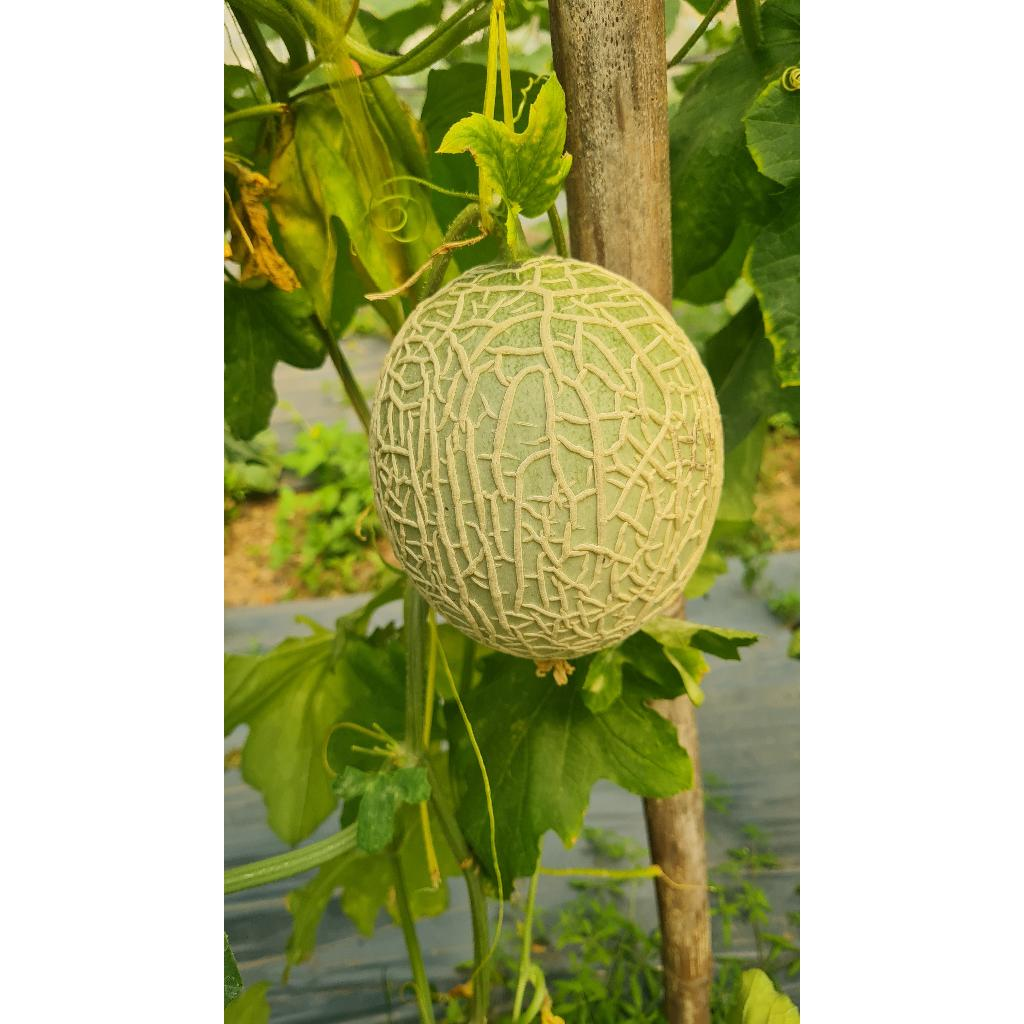melon: (370, 256, 724, 660)
